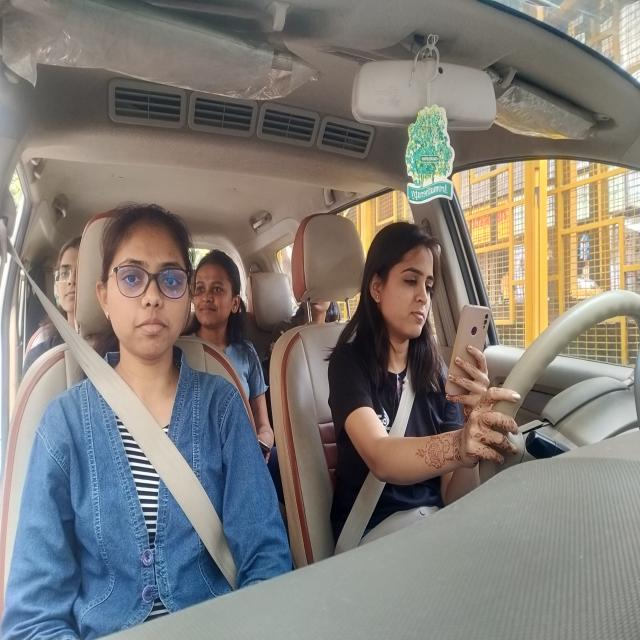mobile: (446, 298, 488, 401)
person: (97, 202, 199, 360), (368, 216, 438, 335), (191, 233, 252, 334), (53, 238, 89, 318)
